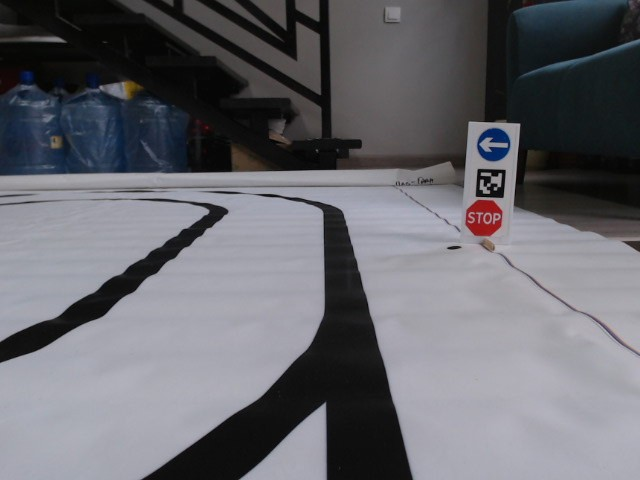Stop: (463, 200, 503, 238)
